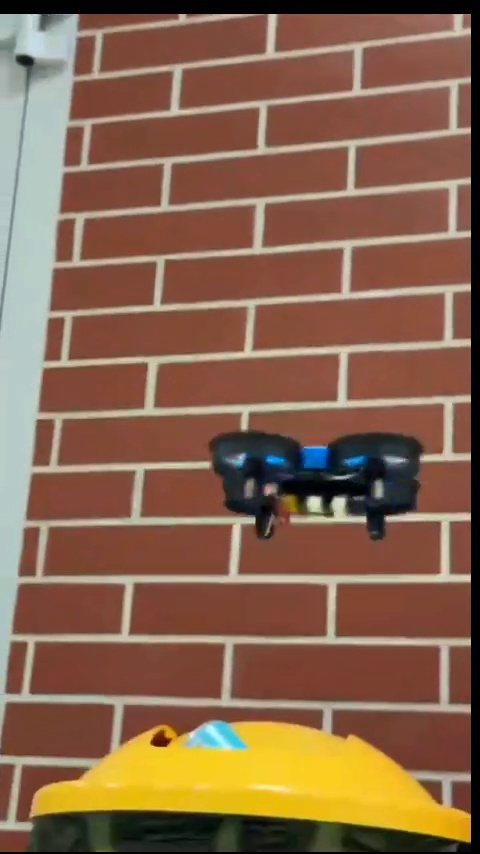drone: (208, 431, 426, 546)
